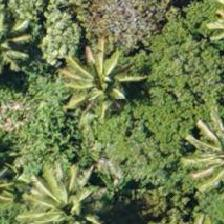coconut_tree: (66, 37, 156, 127), (0, 161, 84, 223), (0, 0, 53, 80)
